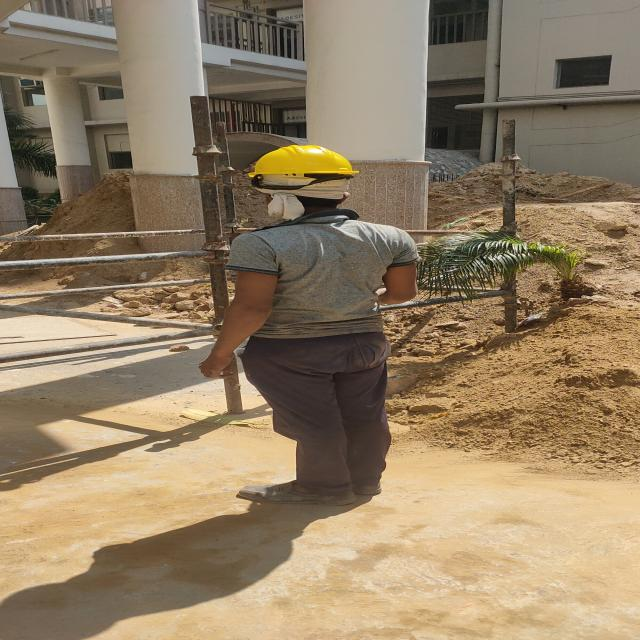no jacket: (201, 146, 416, 504)
